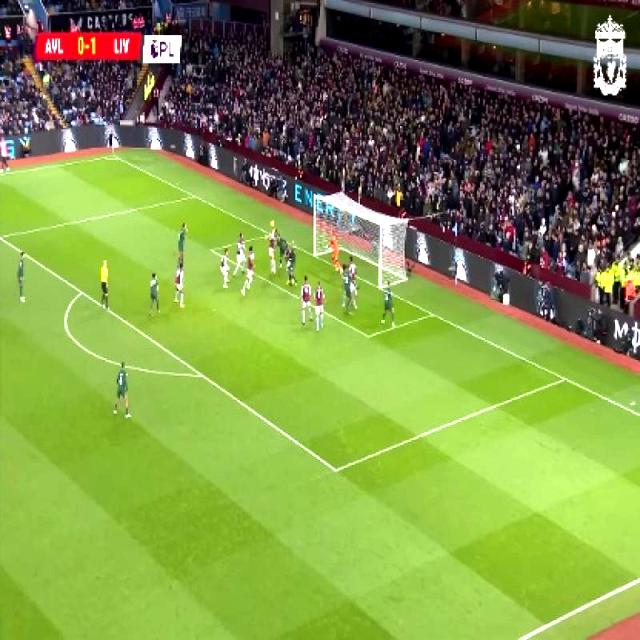bigarea_bottom_inner: (324, 455, 346, 483)
bigarea_bottom_outter: (557, 368, 571, 386)
bigarea_top_inner: (0, 224, 8, 246)
bigarea_top_outter: (188, 188, 200, 202)
bottom_arc_area_intersection: (191, 362, 211, 386)
corner: (105, 149, 120, 163)
smallarea_bottom_inner: (360, 324, 377, 346)
smallarea_bottom_outter: (423, 303, 440, 323)
smallarea_top_inner: (204, 238, 218, 258)
smallarea_top_outter: (264, 226, 278, 242)
top_arc_area_intersection: (72, 280, 88, 300)
